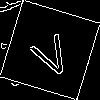V: (25, 25, 76, 81)
